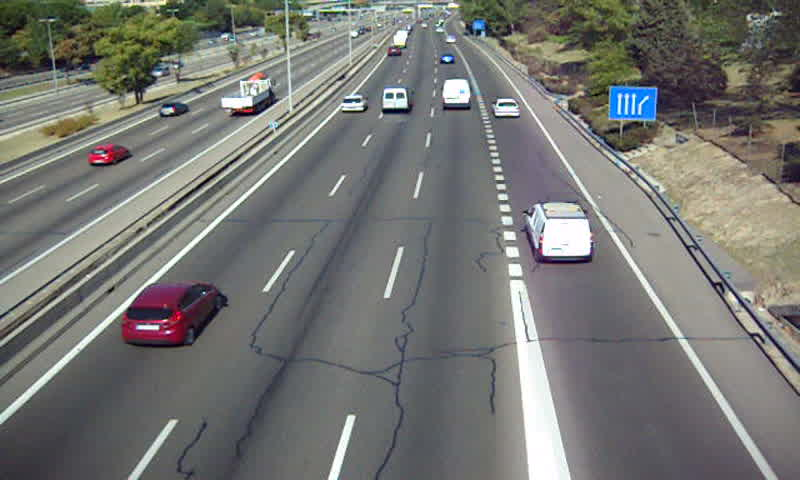car: (120, 282, 220, 347), (339, 94, 369, 115), (491, 97, 520, 118)
van: (525, 203, 595, 262), (441, 80, 472, 108), (383, 86, 414, 113)
